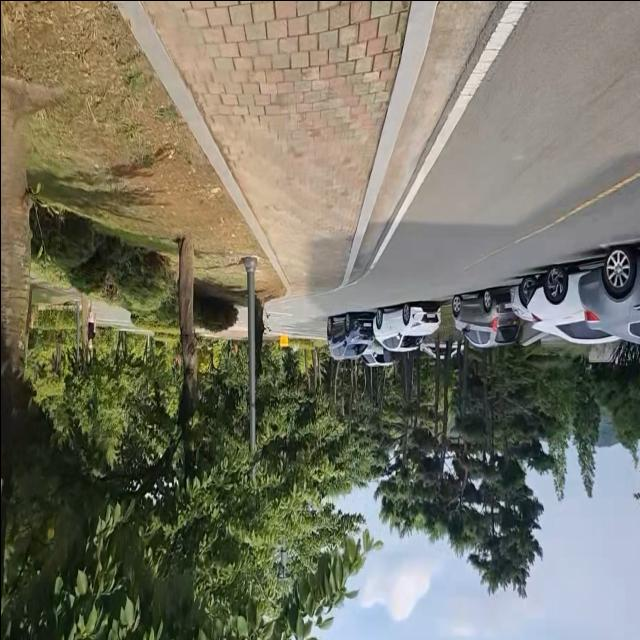obstacle: (447, 255, 619, 344), (320, 294, 443, 370), (573, 237, 640, 355)
road: (344, 0, 640, 311)
sidewalk: (111, 0, 434, 293)
